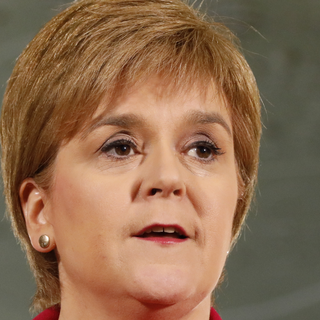eye: (92, 131, 147, 163), (179, 134, 222, 169)
